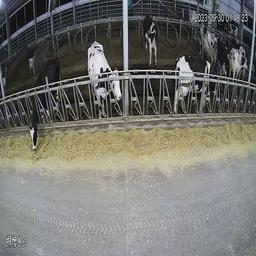cow: (30, 53, 62, 152), (182, 53, 225, 111), (93, 36, 123, 118), (139, 9, 160, 65), (230, 47, 250, 79), (201, 20, 217, 55), (188, 3, 200, 34)
